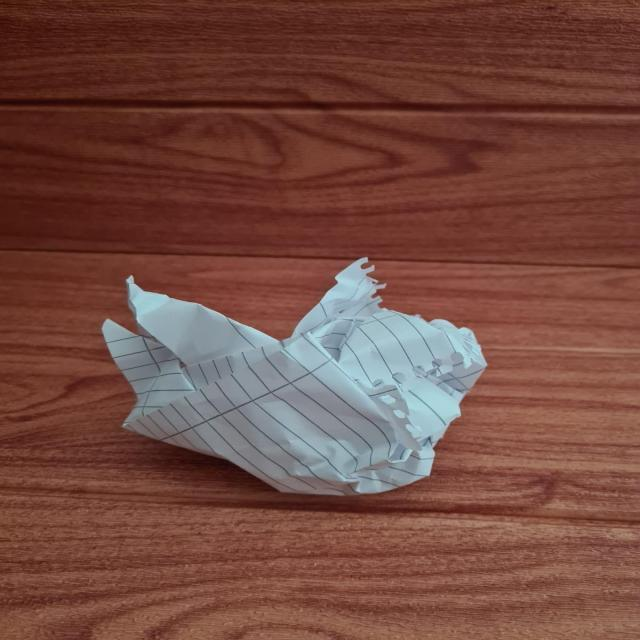cardboard paper: (101, 257, 484, 493)
